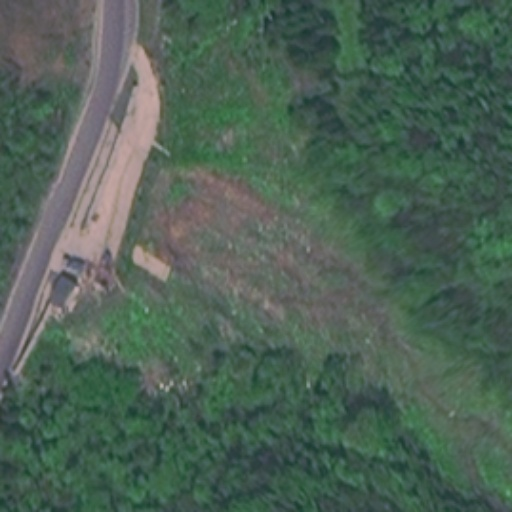landslide: (151, 165, 343, 316)
